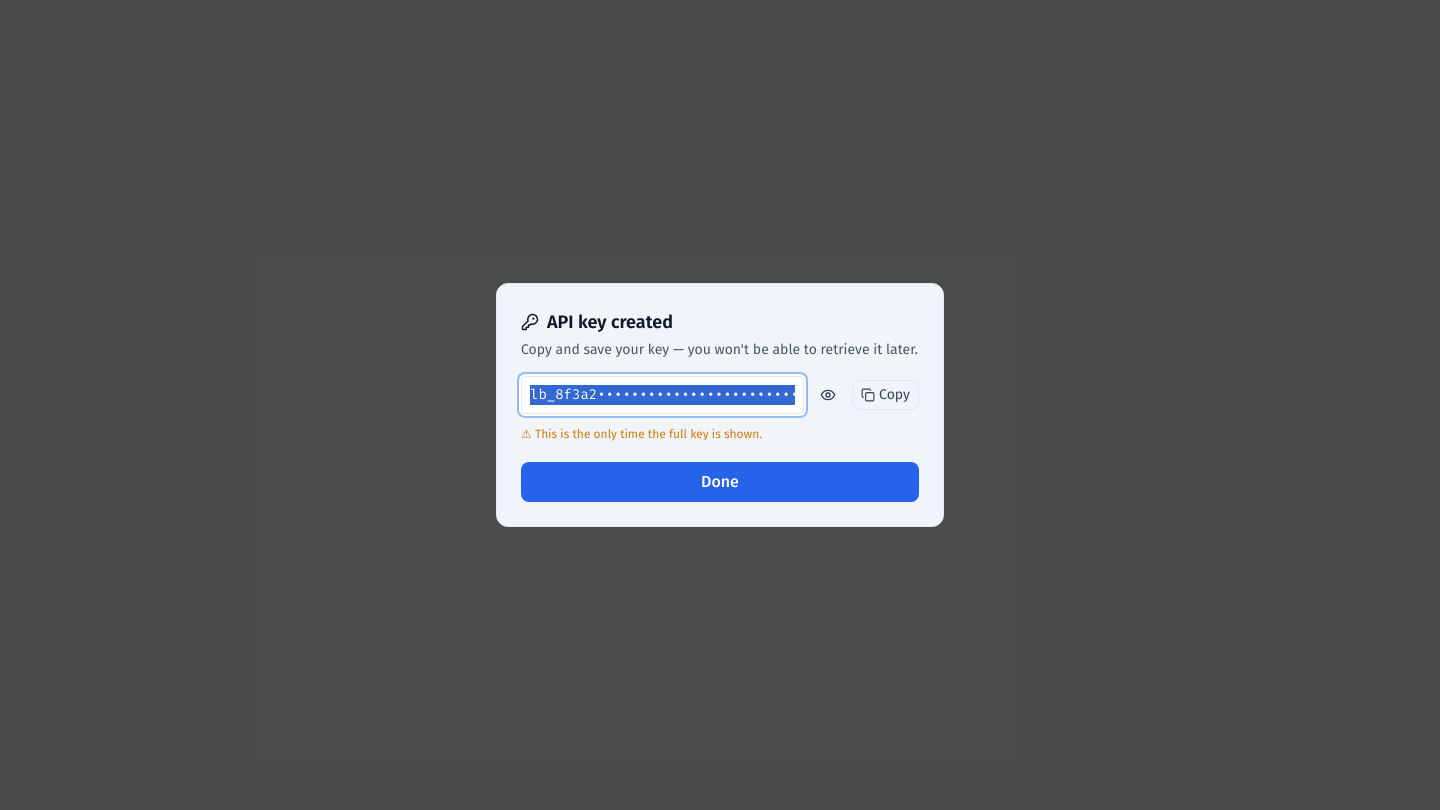
ApiKeyCreatedModal › copy button copies the full key
Step 1. Click the button "Copy" → (886, 395), box left=852, top=380, right=919, bottom=410
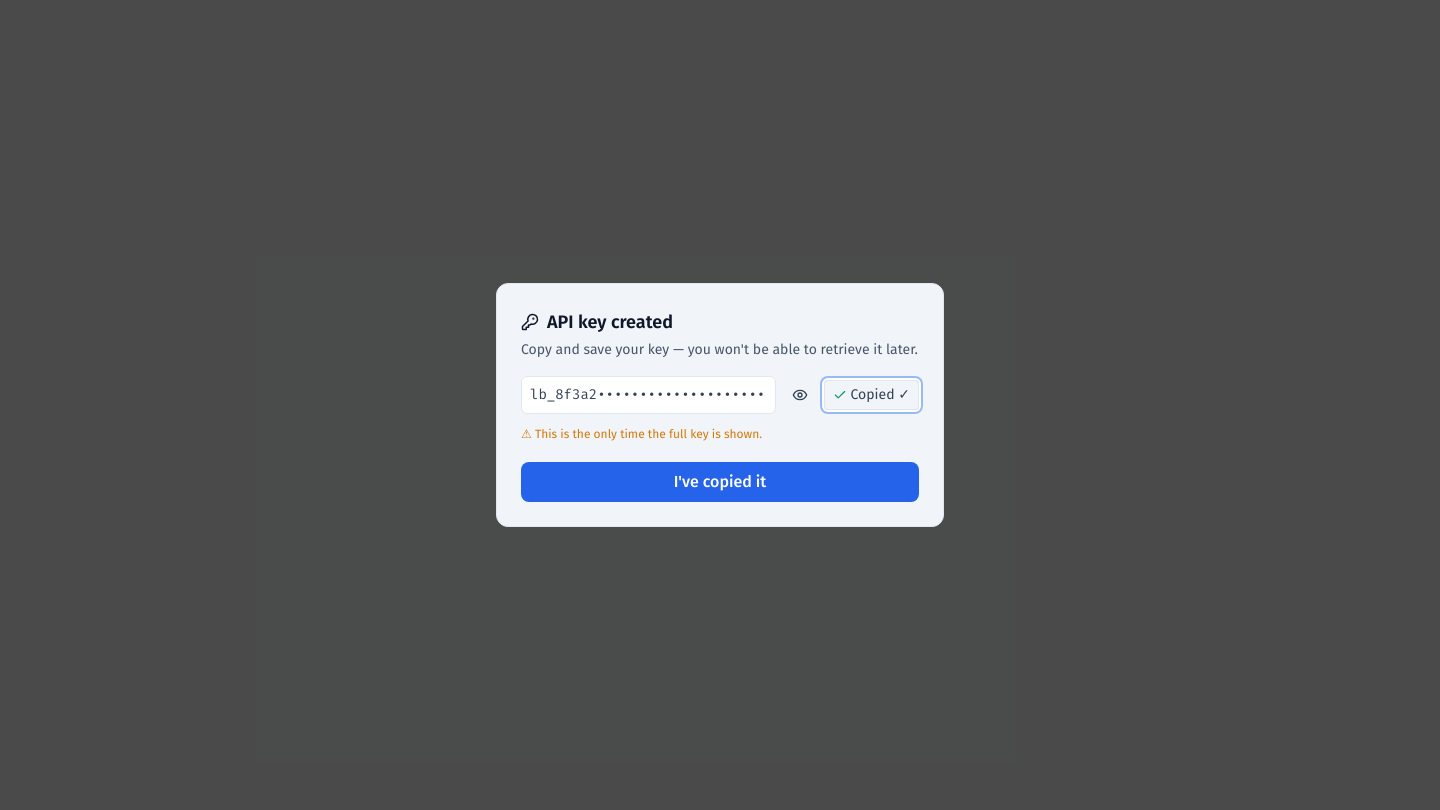
expect the button "I've copied it" is shown: met, box left=521, top=462, right=919, bottom=502
